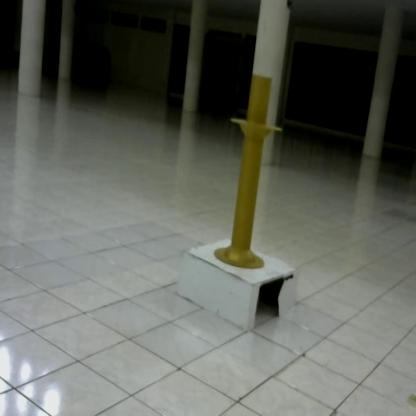pole: (212, 71, 287, 271)
